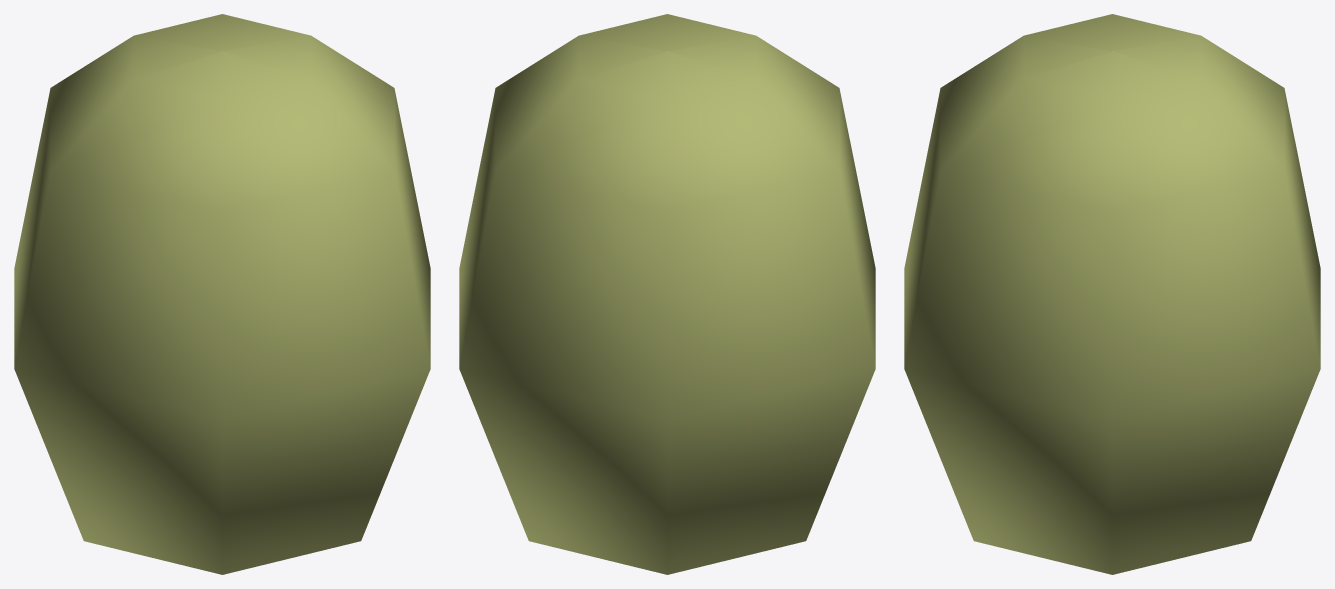
Rendered from fruit-cactus-unripe-far.glb.
3 views of the same model, side by side, from view 1: azimuth 30°, elevation 25°; view 2: azimuth 150°, elevation 25°; view 3: azimuth 270°, elevation 25° (orthographic).
Parts seen in each view (by area): view 1: fruit-cactus-unripe-far; view 2: fruit-cactus-unripe-far; view 3: fruit-cactus-unripe-far.
Boxes of the visible parts, left/top/right/bottom form: fruit-cactus-unripe-far: left=14, top=14, right=430, bottom=574; fruit-cactus-unripe-far: left=459, top=14, right=875, bottom=574; fruit-cactus-unripe-far: left=904, top=14, right=1320, bottom=574.
Bounding box in the file's own units: 0.3 × 0.344 × 0.2598.
